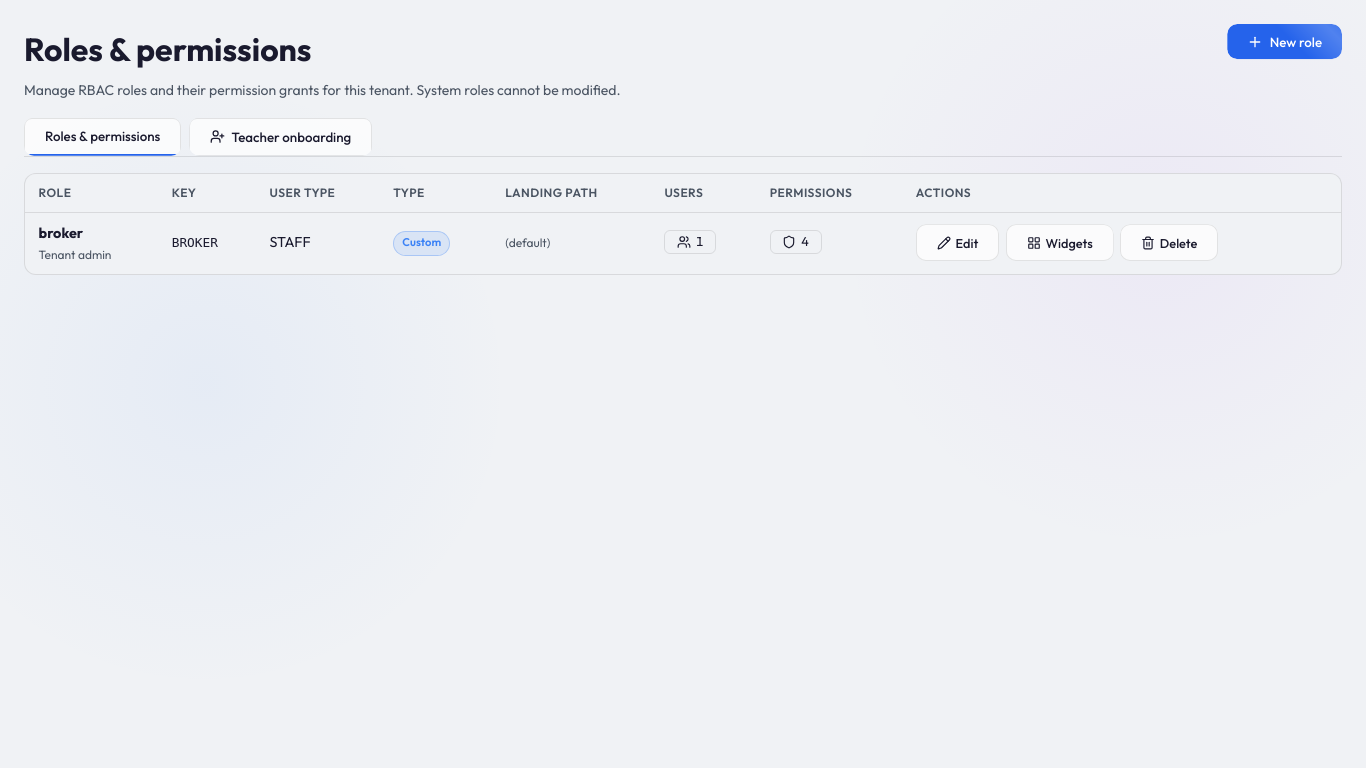
Test: role key editing › locks the key when users are assigned
Click the button with aria-label "Edit broker": (957, 243) [916, 224, 999, 262]
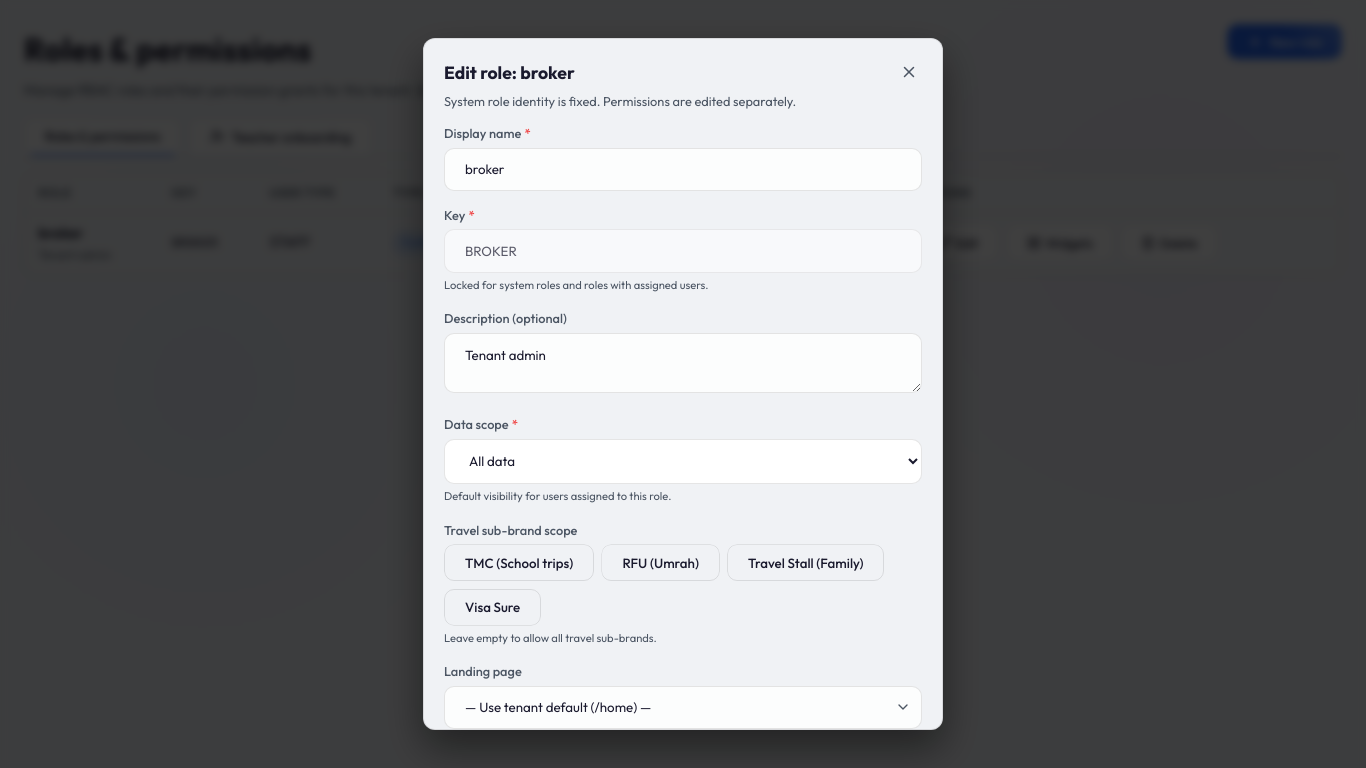
Check: the 2nd field showing "BROKER" is disabled, box [444, 229, 922, 273]
